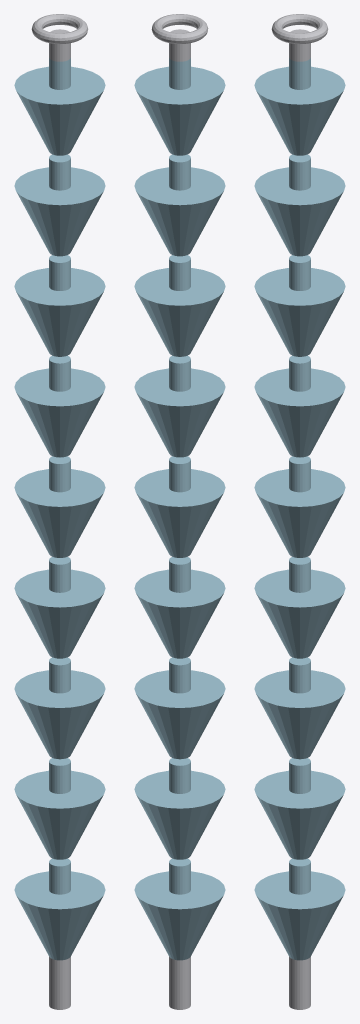
The model's file is Cadena_1187mm.fbx.
3 renders of one model, left to right at view 1: azimuth 90°, elevation 25°; view 2: azimuth 150°, elevation 25°; view 3: azimuth 270°, elevation 25°, orthographic.
Parts seen in each view (by area): view 1: Cadena_1187mm; view 2: Cadena_1187mm; view 3: Cadena_1187mm.
Part boxes in pixels (bbox=[...]): Cadena_1187mm: bbox=[14, 14, 105, 1009]; Cadena_1187mm: bbox=[134, 14, 225, 1009]; Cadena_1187mm: bbox=[254, 14, 345, 1009].
Size of the model in its own units: 10 by 119 by 10.
